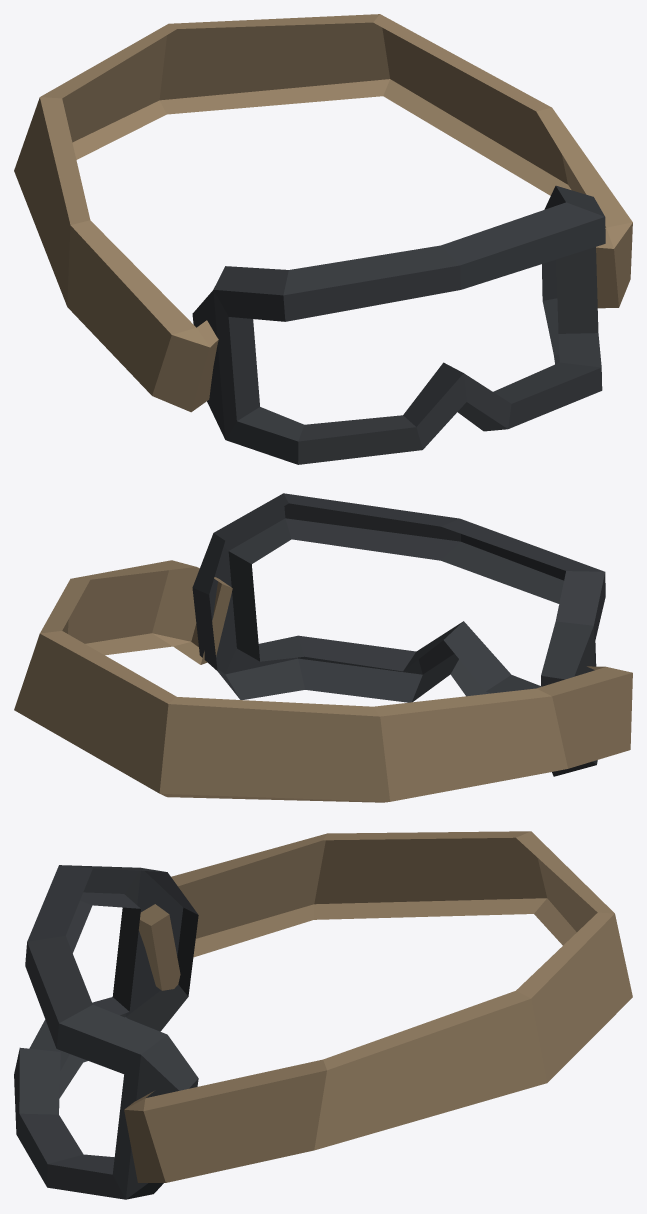
The model's file is SM_Chr_Attach_Helmet_01_Goggles_01.fbx.
3 renders of one model, top to bottom at view 1: azimuth 30°, elevation 25°; view 2: azimuth 150°, elevation 25°; view 3: azimuth 270°, elevation 25°, orthographic.
Visible parts, largest first — view 1: SM_Chr_Attach_Helmet_01_Goggles_01; view 2: SM_Chr_Attach_Helmet_01_Goggles_01; view 3: SM_Chr_Attach_Helmet_01_Goggles_01.
Part boxes in pixels (x1,y1,x2,y2): SM_Chr_Attach_Helmet_01_Goggles_01: (14,14,632,464); SM_Chr_Attach_Helmet_01_Goggles_01: (14,493,632,802); SM_Chr_Attach_Helmet_01_Goggles_01: (14,831,632,1199).
Size of the model in its own units: 31.67 by 12.88 by 33.64.
